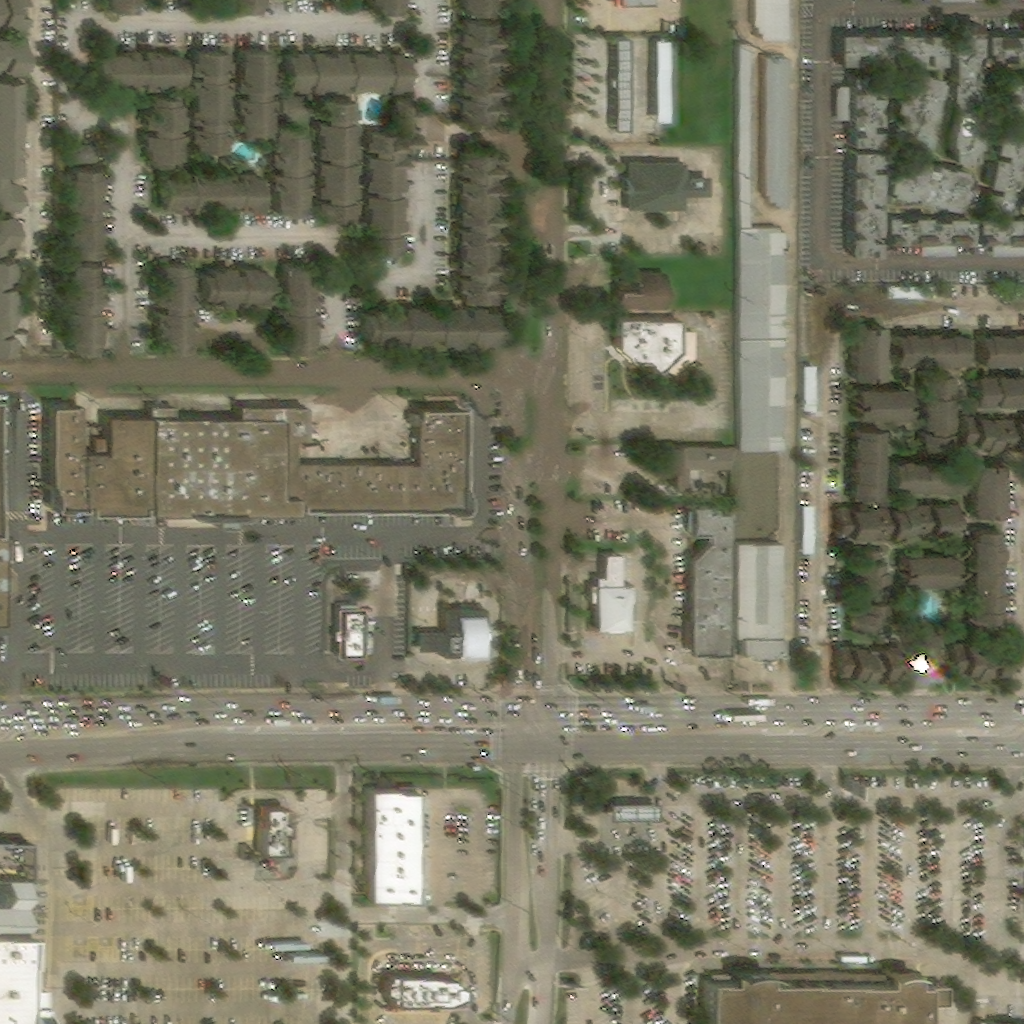minor_damage: (48, 402, 466, 512), (456, 146, 498, 302), (364, 301, 498, 347), (459, 17, 500, 123), (153, 258, 195, 354), (64, 257, 105, 353), (279, 259, 320, 355), (0, 248, 8, 352), (463, 0, 492, 16)
no_damage: (737, 44, 786, 454), (706, 957, 945, 1023), (361, 128, 420, 257), (368, 783, 424, 906), (686, 504, 729, 656), (316, 96, 365, 226), (0, 874, 42, 1023), (286, 47, 409, 96), (737, 543, 787, 663), (617, 316, 699, 381), (269, 98, 313, 218), (886, 150, 971, 212), (620, 160, 712, 216), (948, 16, 982, 163), (888, 68, 945, 154), (162, 167, 262, 214), (892, 430, 967, 492), (190, 48, 232, 154), (65, 142, 104, 255), (886, 210, 974, 260), (763, 56, 790, 213), (839, 29, 945, 68), (236, 48, 278, 141), (416, 605, 488, 659), (848, 148, 883, 257), (97, 47, 185, 90), (589, 550, 635, 629), (982, 120, 1022, 208), (198, 260, 271, 308), (836, 71, 884, 144), (657, 442, 731, 489), (384, 972, 469, 1011), (971, 526, 1005, 620), (145, 94, 187, 169), (837, 643, 904, 682), (852, 423, 884, 504), (961, 412, 1022, 454), (893, 328, 966, 363), (950, 640, 1016, 675), (618, 272, 669, 314), (903, 551, 959, 589), (855, 384, 911, 422), (977, 212, 1022, 259), (853, 320, 887, 382), (986, 66, 1022, 122), (258, 800, 291, 859), (837, 505, 889, 542), (973, 459, 1004, 521), (612, 34, 631, 135), (921, 370, 954, 427), (973, 372, 1022, 408), (0, 67, 17, 170), (978, 329, 1022, 367), (332, 604, 363, 657), (851, 595, 888, 637), (755, 0, 790, 43), (608, 798, 658, 828), (891, 504, 932, 540), (655, 38, 671, 121), (987, 29, 1022, 65), (852, 548, 887, 582), (932, 503, 963, 541), (912, 625, 943, 662), (395, 97, 418, 131), (803, 507, 818, 557), (889, 286, 938, 301), (0, 166, 16, 210), (0, 27, 18, 66), (804, 366, 818, 414), (371, 0, 404, 20), (232, 0, 266, 18), (107, 0, 142, 16), (0, 213, 15, 246), (804, 107, 819, 140), (0, 0, 18, 22), (614, 0, 655, 9), (977, 1016, 1021, 1023), (942, 0, 978, 8)
